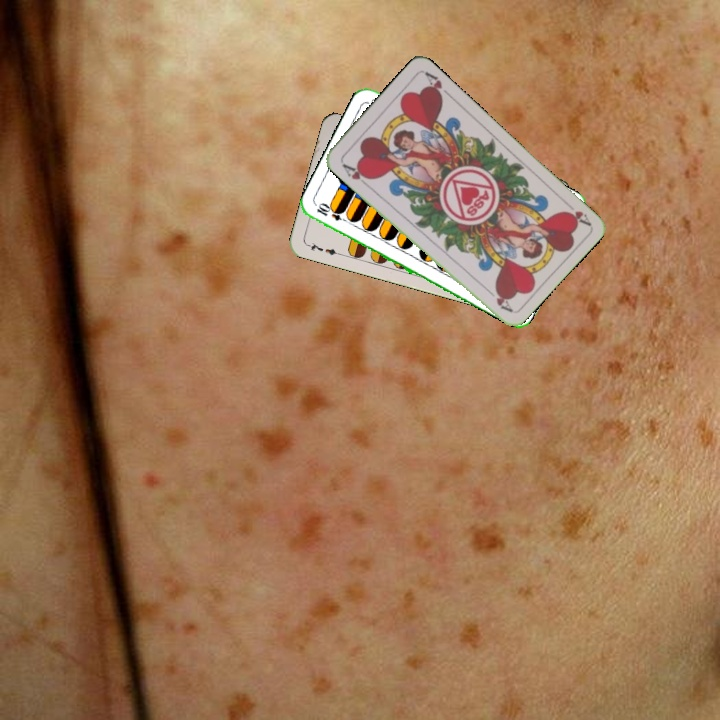E10: (312, 200, 352, 226)
E7: (303, 238, 343, 258)
HA: (338, 159, 374, 189), (559, 206, 593, 228)
